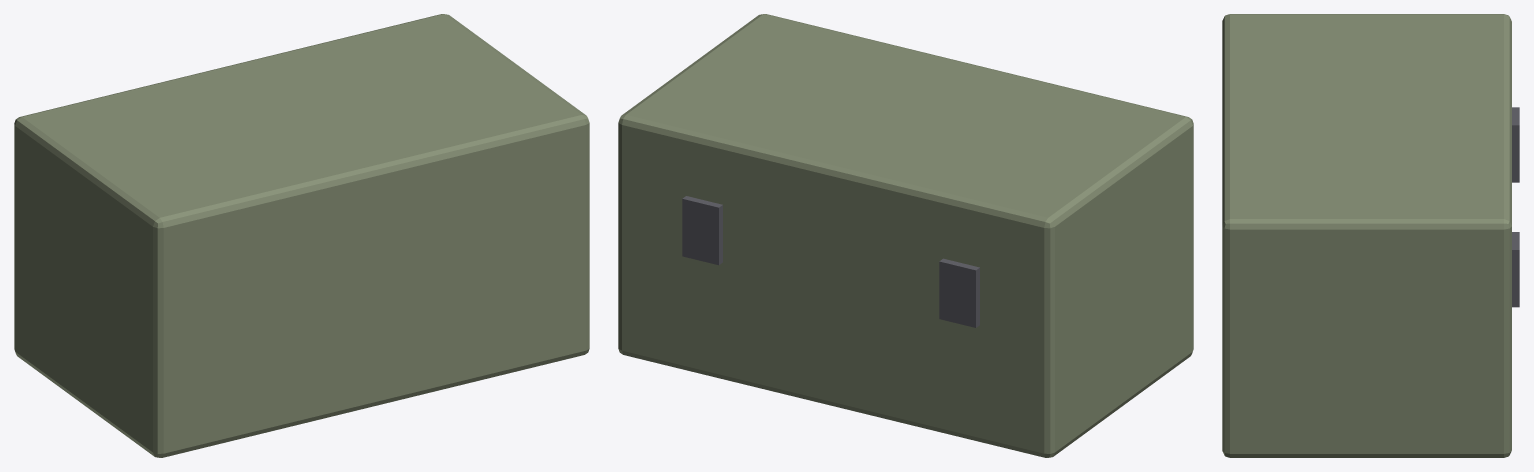
File: Prop_Crate_Military.fbx
3 renders of one model, left to right at view 1: azimuth 30°, elevation 25°; view 2: azimuth 150°, elevation 25°; view 3: azimuth 270°, elevation 25°, orthographic.
Parts seen in each view (by area): view 1: Prop_Crate_Military; view 2: Prop_Crate_Military; view 3: Prop_Crate_Military.
Part boxes in pixels (left/top/right/bottom): Prop_Crate_Military: left=14, top=14, right=589, bottom=457; Prop_Crate_Military: left=618, top=14, right=1193, bottom=457; Prop_Crate_Military: left=1222, top=14, right=1519, bottom=457.
Bounding box in the file's own units: 0.95 × 0.5 × 0.565.
